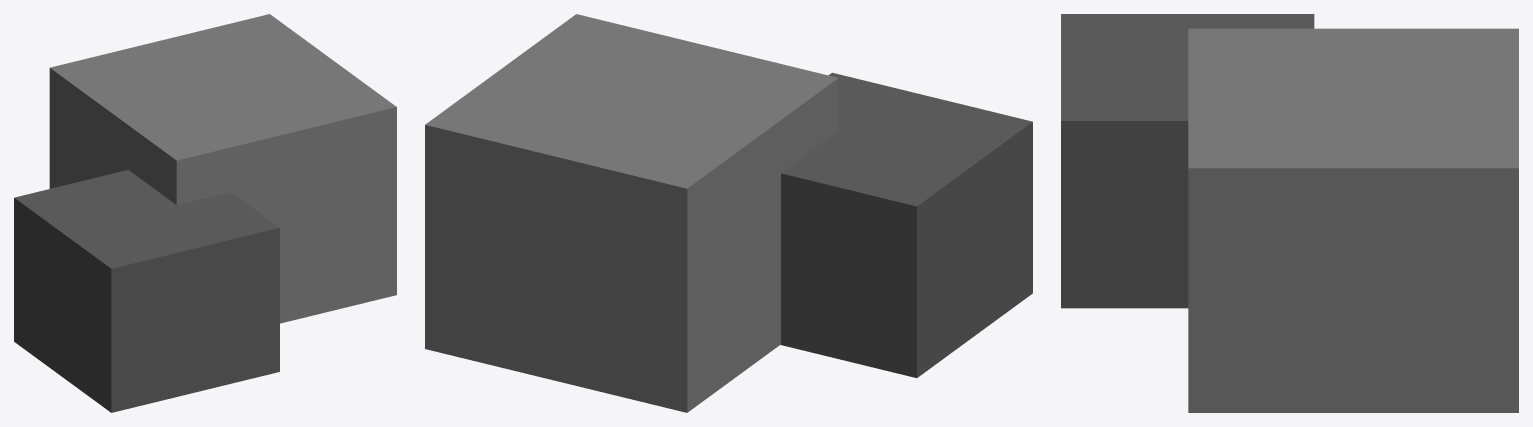
Rendered from Rock_01.fbx.
The picture shows the model from 3 angles, left to right: view 1: azimuth 30°, elevation 25°; view 2: azimuth 150°, elevation 25°; view 3: azimuth 270°, elevation 25°; orthographic projection. The views are drawn at different scales.
Visible parts, largest first — view 1: Cube; view 2: Cube; view 3: Cube.
Boxes of the visible parts, x1,y1,x2,y2 form: Cube: (14, 14, 396, 412); Cube: (425, 14, 1032, 412); Cube: (1061, 14, 1518, 412).
Size of the model in its own units: 0.8805 by 0.4749 by 0.8026.
